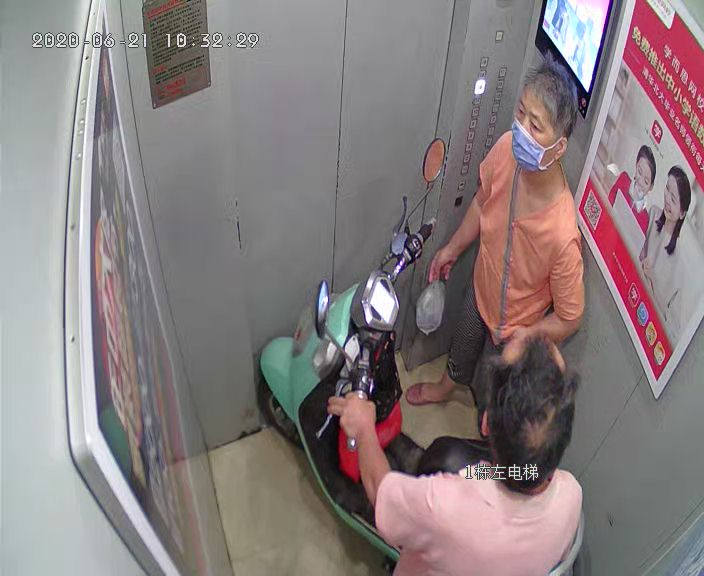Electric-bicycle: (260, 139, 471, 507)
